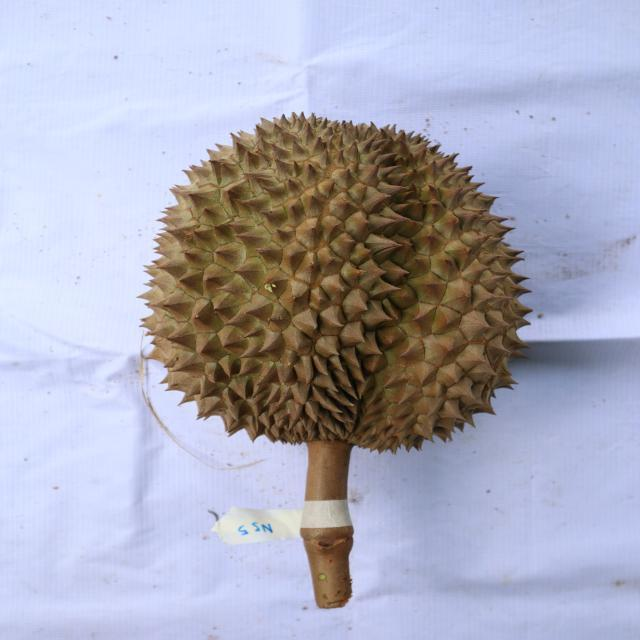mature: (139, 112, 537, 447)
